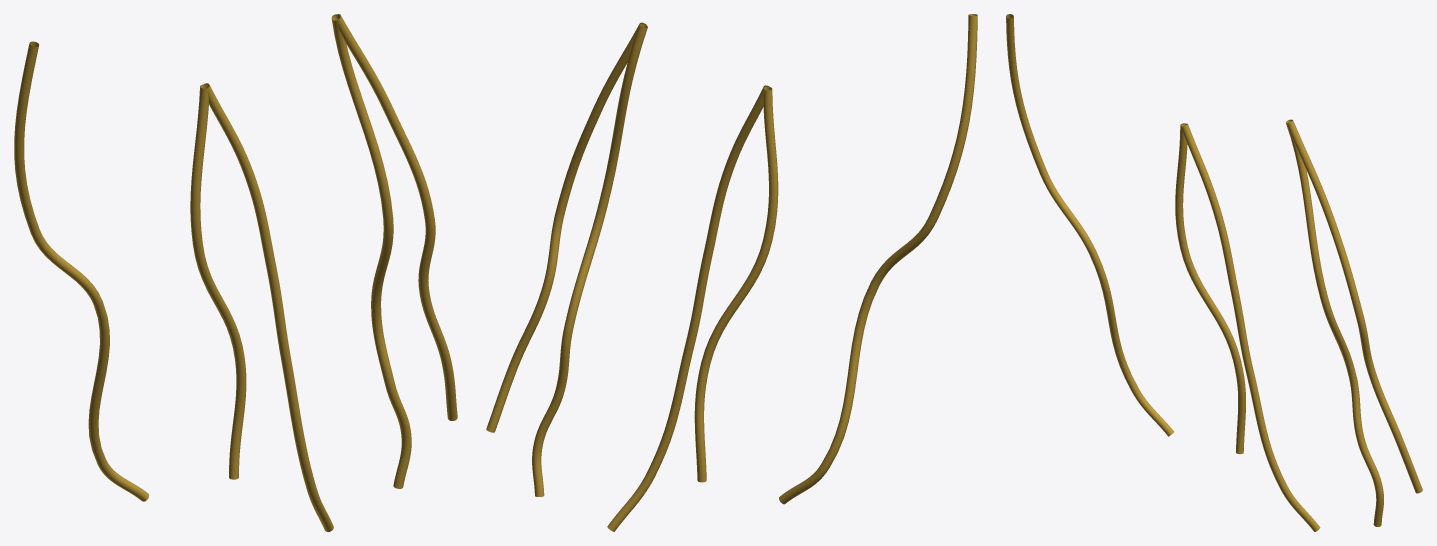
3 views of the same model, side by side, from view 1: azimuth 30°, elevation 25°; view 2: azimuth 150°, elevation 25°; view 3: azimuth 330°, elevation 25° (orthographic). The views are drawn at different scales.
Visible parts, largest first — view 1: 左侧足底内侧神经趾足底固有神经; view 2: 左侧足底内侧神经趾足底固有神经; view 3: 左侧足底内侧神经趾足底固有神经.
Boxes of the visible parts, x1=… form: 左侧足底内侧神经趾足底固有神经: x1=14, y1=14, x2=457, y2=531; 左侧足底内侧神经趾足底固有神经: x1=486, y1=14, x2=977, y2=531; 左侧足底内侧神经趾足底固有神经: x1=1006, y1=14, x2=1422, y2=531.
Size of the model in its own units: 0.0816 by 0.098 by 0.0165.
